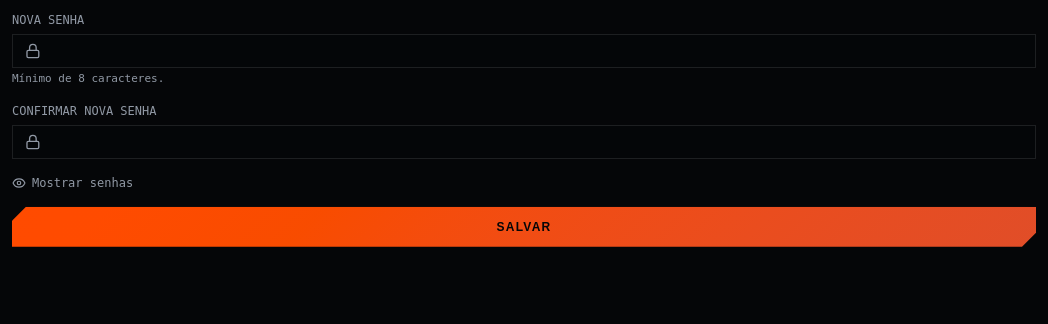
Test case: PasswordForm › mostra o erro do servidor em português
In the password field labelled "NOVA SENHA": (532, 51) [41,35,1023,67], type "senha-boa-1"
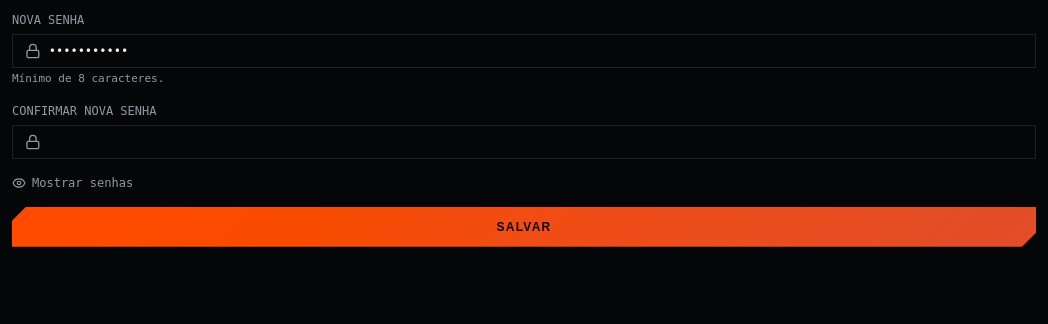
In the password field labelled "CONFIRMAR NOVA SENHA": (532, 142) [41,126,1023,158], type "senha-boa-1"
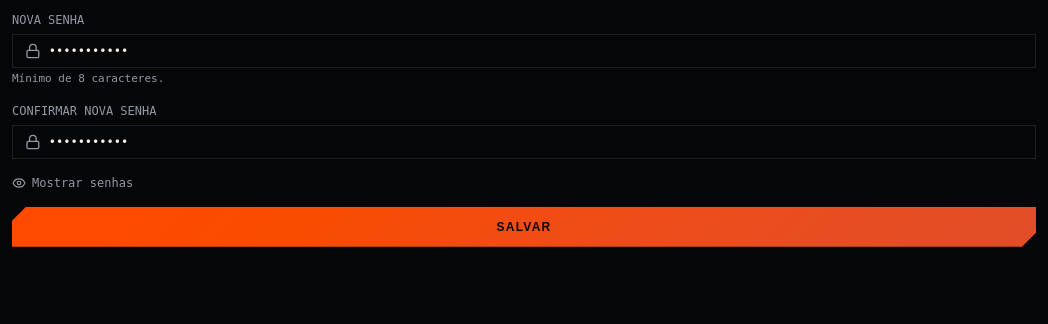
Click the button "Salvar": (524, 227) [12,207,1036,247]
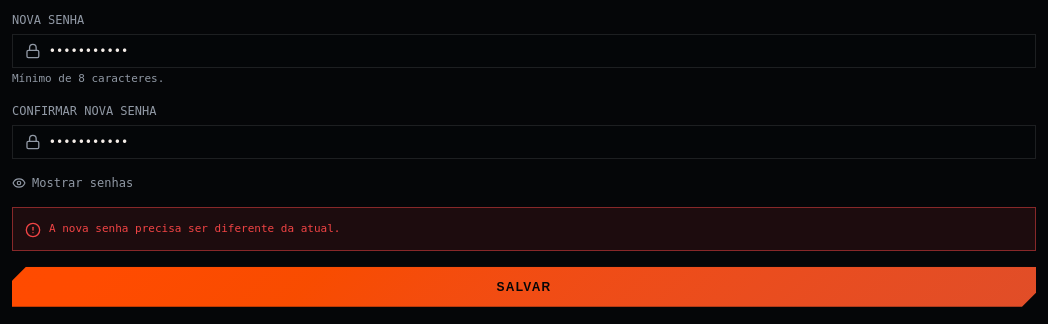
Check: the message shows "diferente da atual", box [49,222,340,235]
